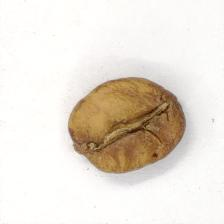NG: (82, 88, 168, 158)
